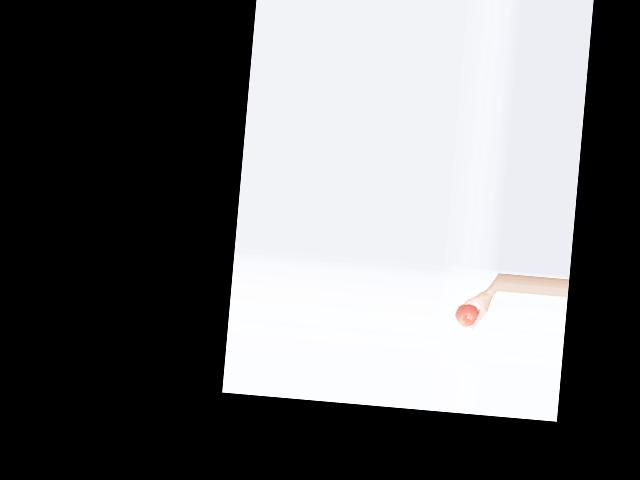tomato: (454, 303, 478, 327)
